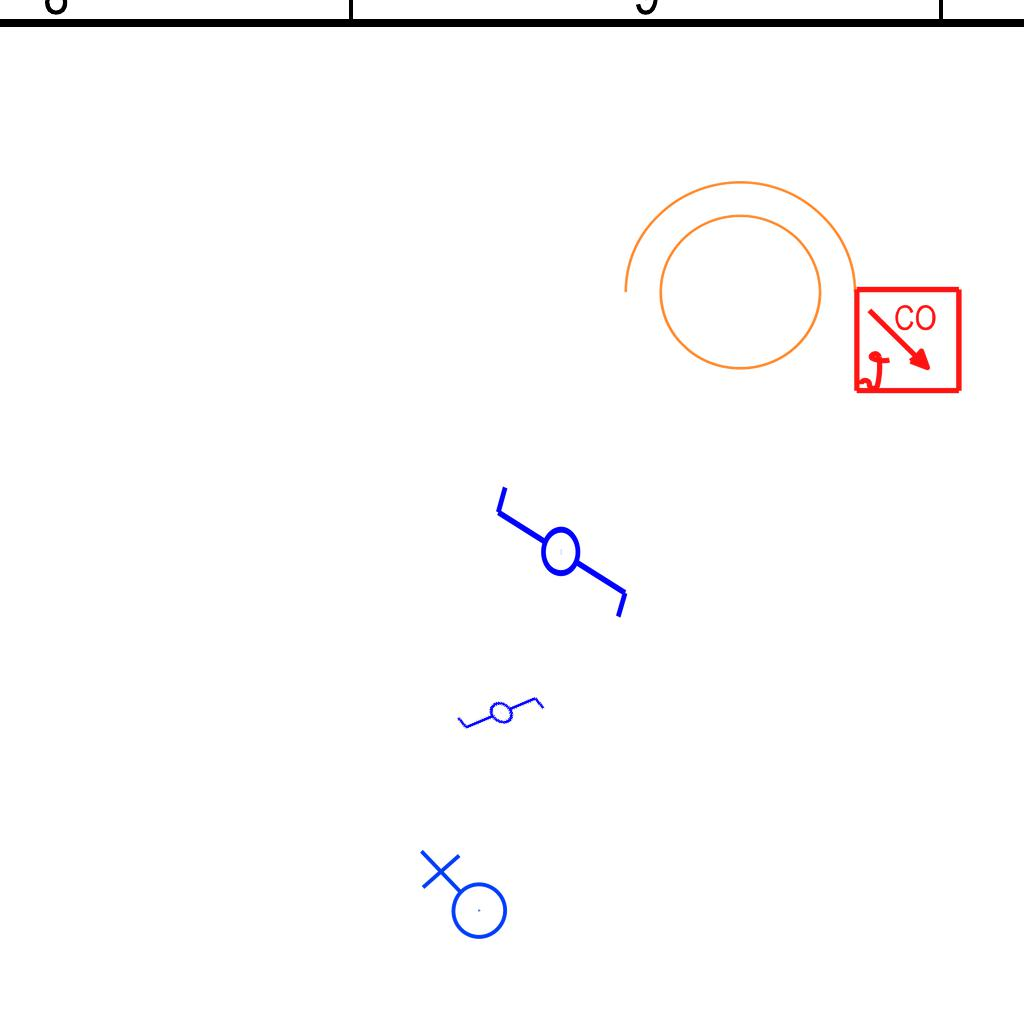Elektroanschluss_allgemein_230V_Geraeteanschlussdose_230V: (415, 849, 509, 948)
ROA_Rauchmelder_optisch_mit_Signalgeber_(Sockelsirene): (852, 285, 965, 398)
Scheinwerfer_fuer_Alarmbeleuchtung: (602, 170, 866, 395)
Wechselschalter: (491, 465, 635, 622), (451, 664, 557, 768)
